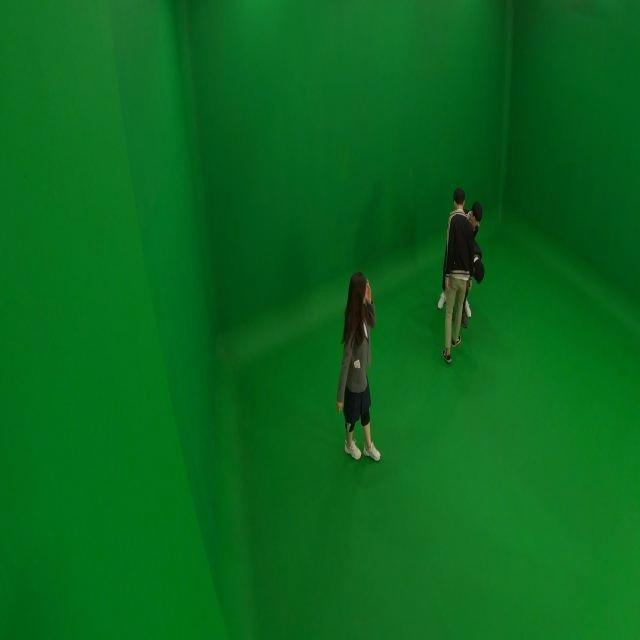fight: (440, 189, 486, 361)
non-fight: (335, 272, 379, 460)
